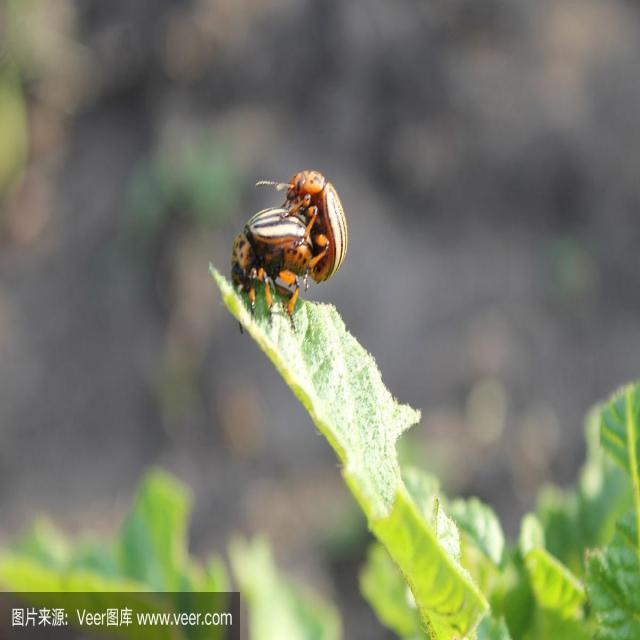ShuCaiHuaBanChong-Grown-: (220, 198, 321, 295), (292, 155, 355, 290)
